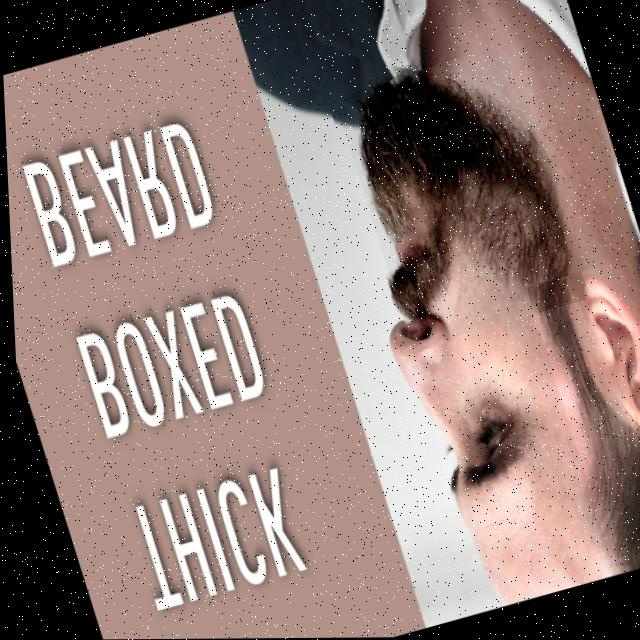beard: (359, 76, 571, 319)
hair: (538, 287, 640, 572)
